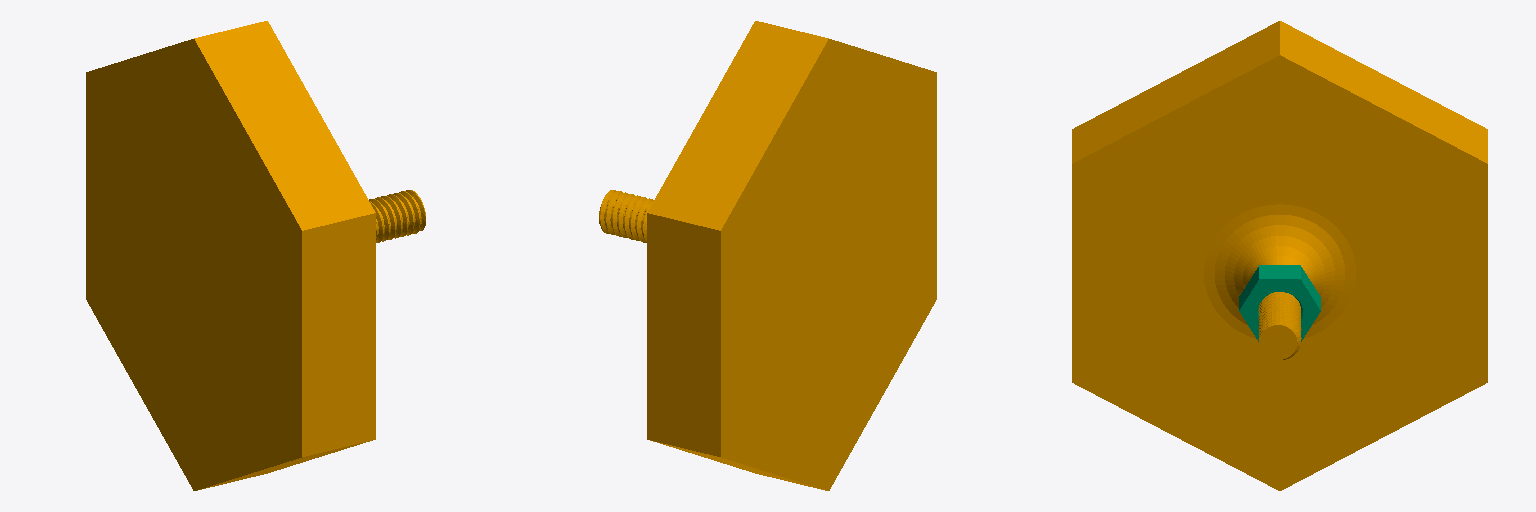
The robot description file, URDF, robot "M8_Assy":
<?xml version="1.0"?>
<!--
  M8 thread: screw base + nut on a continuous revolute and a prismatic joint
  along the screw axis (+X). Upstream collides with the base mesh, whose single
  convex hull is a cone from the plate to the screw tip that fingers cannot
  reach past; the base here collides as primitives instead.
  PrismaticJoint = 0 seats the nut on the collar; +X unscrews it off the tip.
-->
<robot name="M8_Assy">
  <link name="World">
    <inertial><origin xyz="-0.018 0 0" rpy="0 0 0" /><mass value="0.3025" /><inertia ixx="0.000342376" ixy="0" ixz="0" iyy="0.000197776" iyz="0" izz="0.000246687" /></inertial>
    <visual>
      <origin xyz="-0.0253536 0 0" rpy="0 1.5707963 0" />
      <geometry><mesh filename="meshes/M8_Screw_Base_Corpo1_Mesh.obj" scale="1 1 1" /></geometry>
    </visual>
    <collision>
      <origin xyz="-0.0178536 0 0" rpy="0 0 0" />
      <geometry><box size="0.015 0.076 0.076" /></geometry>
    </collision>
    <collision>
      <origin xyz="-0.0052 0 0" rpy="0 1.5707963 0" />
      <geometry><cylinder radius="0.0053" length="0.0104" /></geometry>
    </collision>
    <collision>
      <origin xyz="0.0098 0 0" rpy="0 1.5707963 0" />
      <geometry><cylinder radius="0.0036" length="0.0196" /></geometry>
    </collision>
  </link>
  <link name="rot_pivot">
    <inertial><origin xyz="0 0 0" rpy="0 0 0" /><mass value="0.005" /><inertia ixx="1e-06" ixy="0" ixz="0" iyy="1e-06" iyz="0" izz="1e-06" /></inertial>
  </link>
  <link name="nut_pivot">
    <!-- CAD mass is ~1 g; 20 g keeps the grasp contacts stable. -->
    <inertial><origin xyz="0.003 0 0" rpy="0 0 0" /><mass value="0.02" /><inertia ixx="1e-06" ixy="0" ixz="0" iyy="1e-06" iyz="0" izz="1e-06" /></inertial>
    <visual>
      <origin xyz="0 0 0" rpy="0 1.5707963 0" />
      <geometry><mesh filename="meshes/M8_Nut_Corpo1_Mesh.obj" scale="1 1 1" /></geometry>
    </visual>
    <collision>
      <origin xyz="0 0 0" rpy="0 1.5707963 0" />
      <geometry><mesh filename="meshes/M8_Nut_Corpo1_Mesh.obj" scale="1 1 1" /></geometry>
    </collision>
  </link>
  <joint name="RevoluteJoint" type="continuous">
    <origin xyz="0 0 0" rpy="0 0 0" />
    <parent link="World" />
    <child link="rot_pivot" />
    <axis xyz="1 0 0" />
  </joint>
  <joint name="PrismaticJoint" type="prismatic">
    <origin xyz="0 0 0" rpy="0 0 0" />
    <parent link="rot_pivot" />
    <child link="nut_pivot" />
    <axis xyz="1 0 0" />
    <limit lower="0.0" upper="0.015" effort="100.0" velocity="1.0" />
  </joint>
</robot>

--- Facts derived from the render (not from the file) ---
3 views of the same robot in one strip: view 1: azimuth 30°, elevation 25°; view 2: azimuth 150°, elevation 25°; view 3: azimuth 270°, elevation 25° (orthographic).
Robot: M8_Assy — 3 links, 2 joints (1 continuous, 1 prismatic); root link World; default pose: all joints at 0.
Links seen in each view (by area): view 1: World; view 2: World; view 3: World, nut_pivot.
Link boxes in pixels (bbox=[...]): World: bbox=[86, 21, 425, 490]; World: bbox=[599, 21, 936, 490]; World: bbox=[1072, 21, 1487, 490]; nut_pivot: bbox=[1239, 265, 1320, 341].
Size in the robot's own frame: 0.045 by 0.0763 by 0.0881 metres.
Meshes: 2 distinct files referenced, 2 mesh visuals loaded (2 OBJ).
